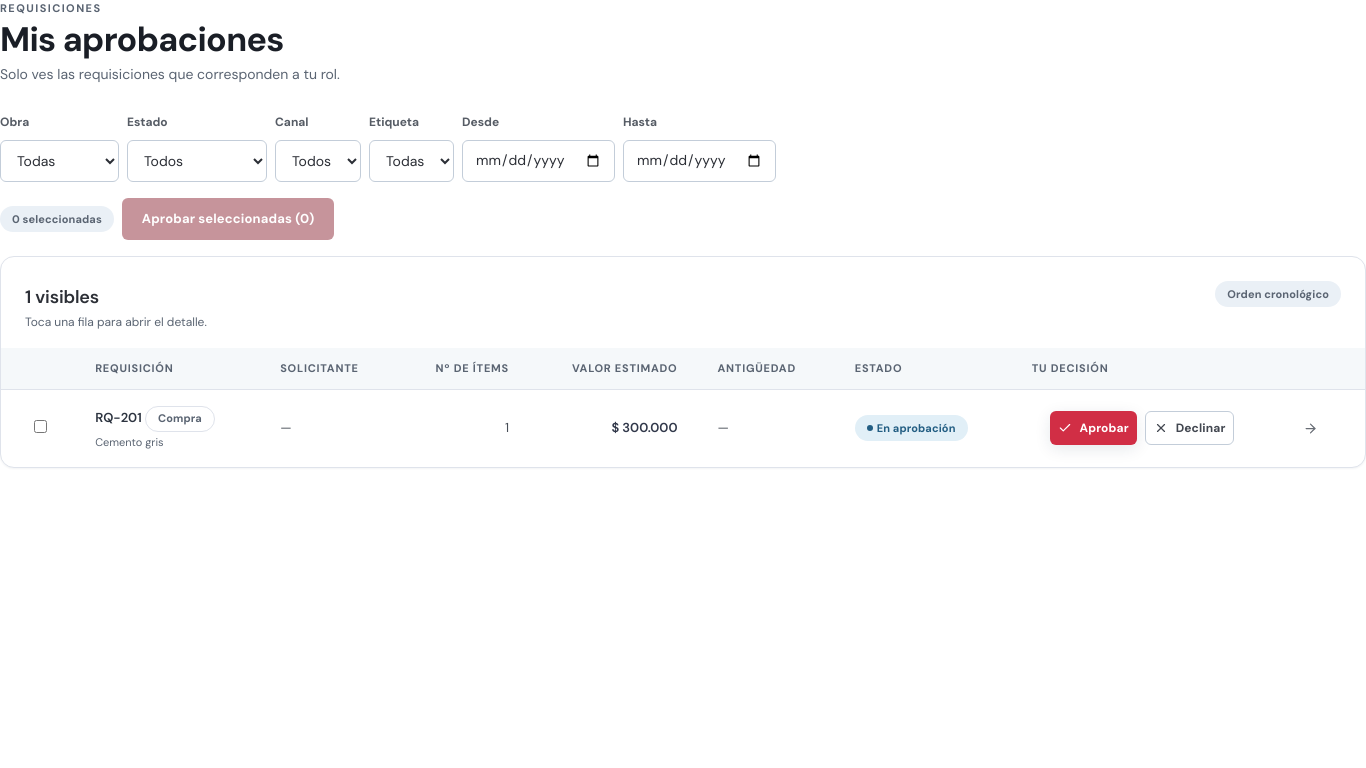
Scenario: Aprobar desde la lista: body exacto por fila › «Declinar» exige motivo y manda el MISMO lote que el detalle: decide_items (declinado) y DESPUÉS approve
Click the button "Declinar" at x=1190, y=428, box x1=1145 y1=411 x2=1234 y2=445
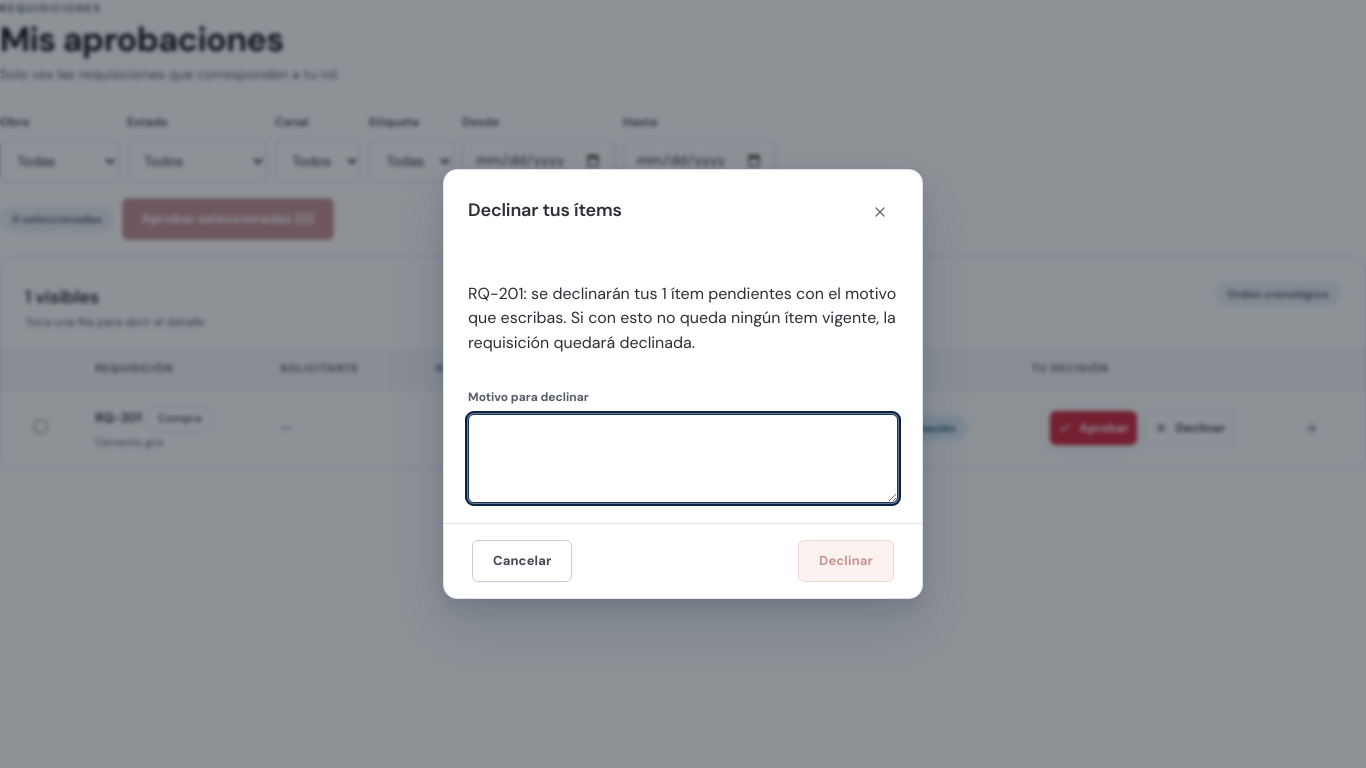
Expected: the button with test id "confirm-dialog-confirm" is disabled, x1=798 y1=540 x2=894 y2=582
Type "No se necesita este material" into the text box labelled "Motivo para declinar" at x=683, y=459, box x1=468 y1=414 x2=898 y2=504
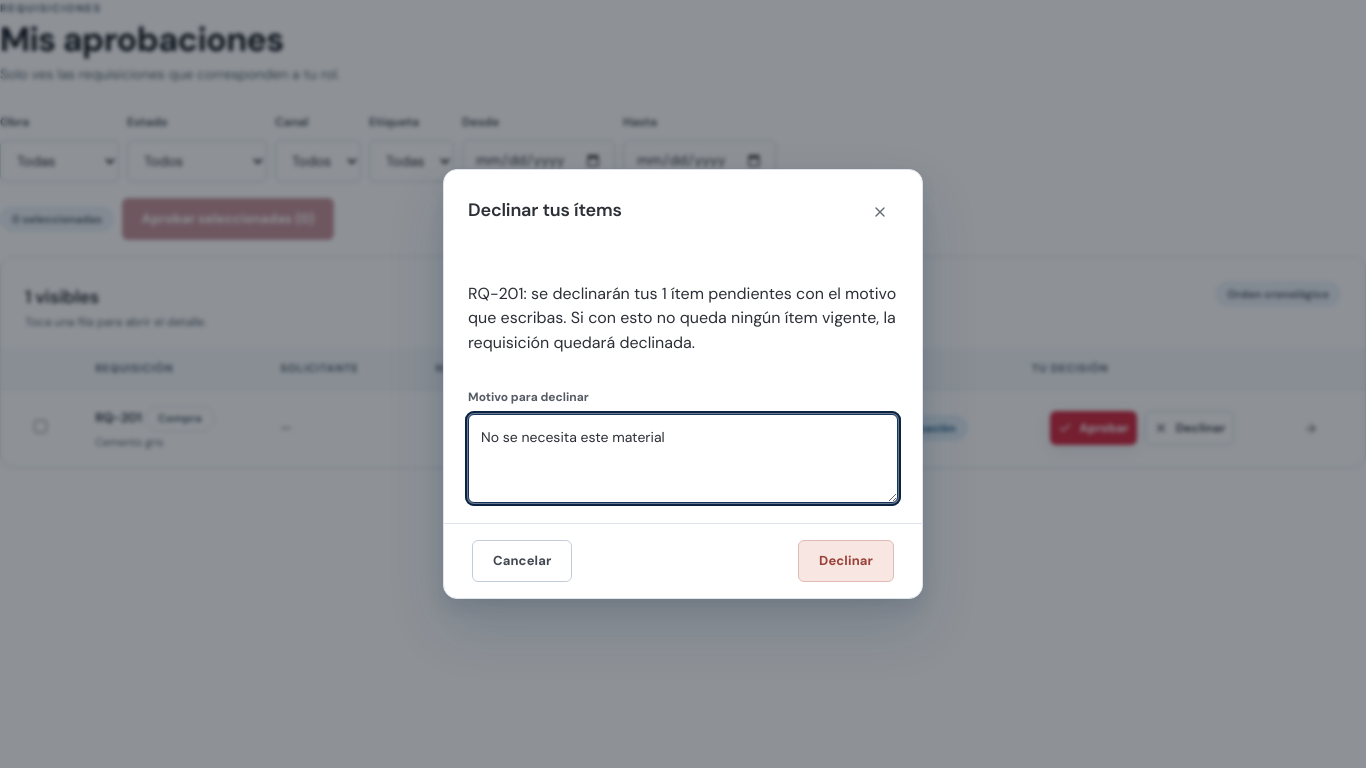
Expected: the button with test id "confirm-dialog-confirm" is enabled
Click the button with test id "confirm-dialog-confirm" at x=846, y=562, box x1=798 y1=540 x2=894 y2=582
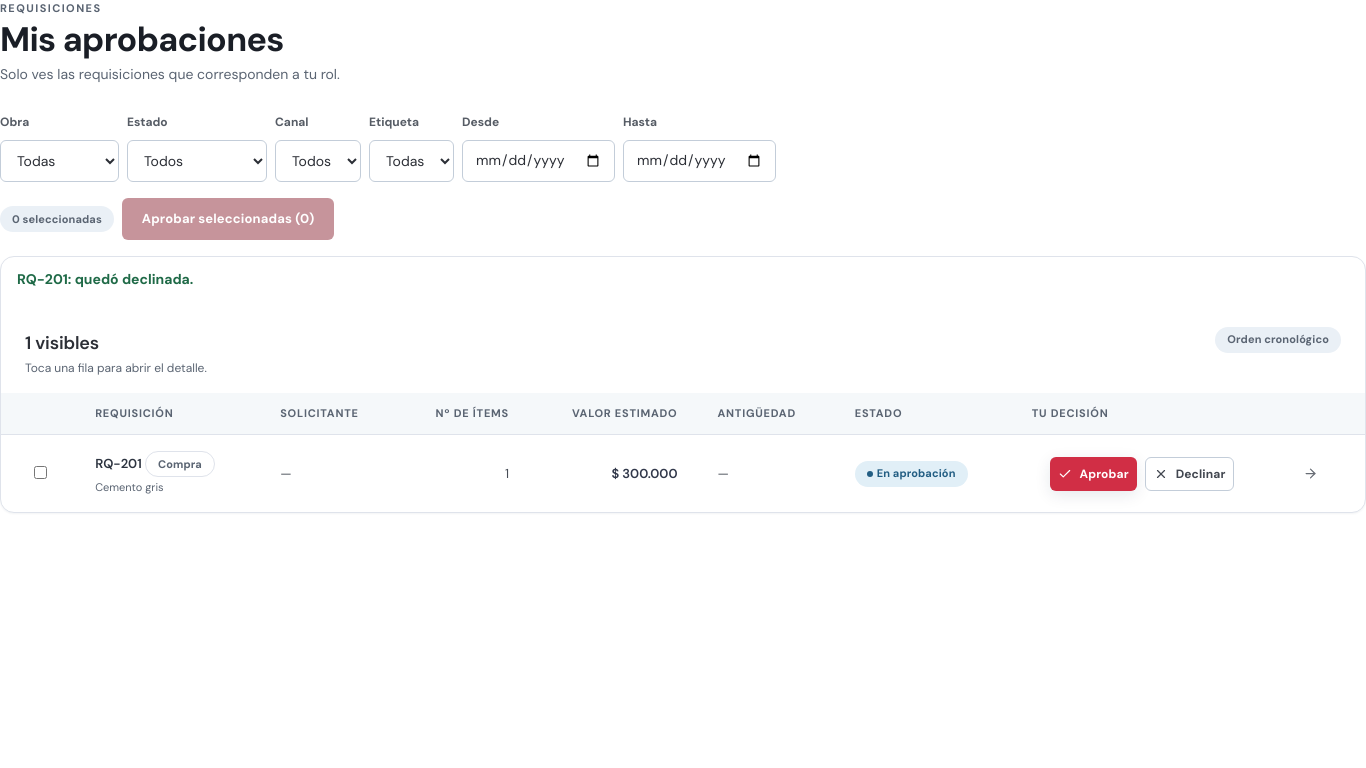
Expected: the text "RQ-201: quedó declinada." is shown, x1=17 y1=270 x2=193 y2=288
